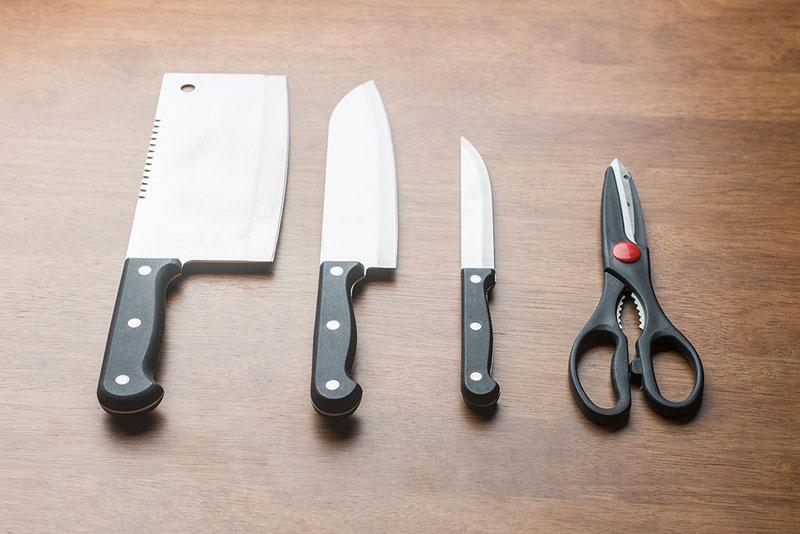knife: (79, 53, 543, 498)
